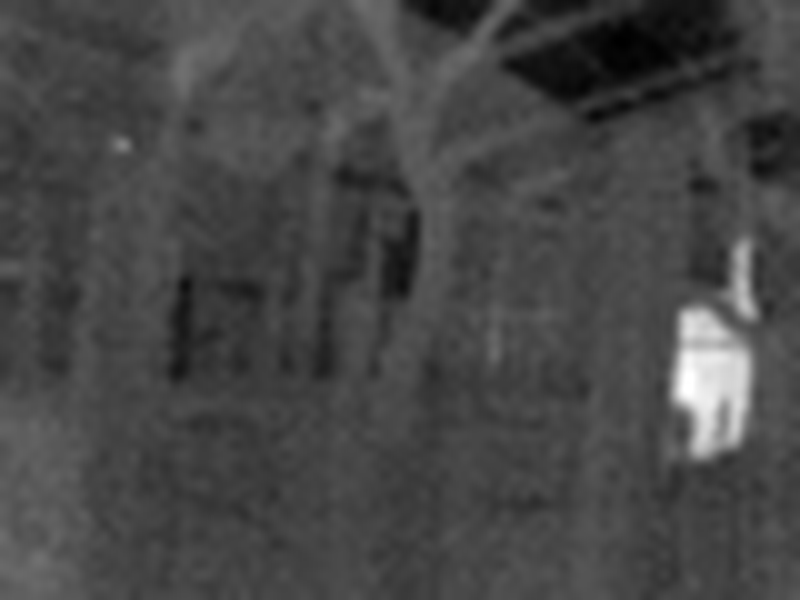elephant: (647, 252, 761, 477)
